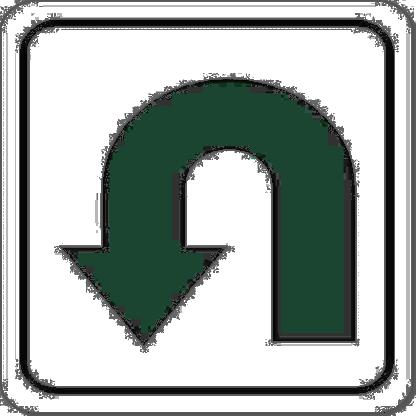U-turn: (20, 23, 384, 390)
